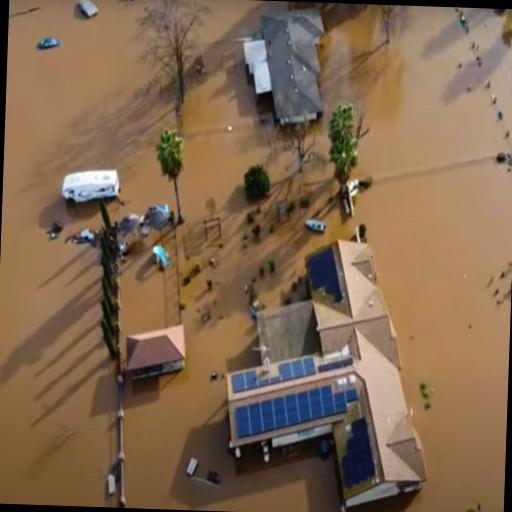flood: (255, 4, 512, 512), (124, 0, 340, 512), (0, 0, 174, 507), (120, 230, 177, 341)
house: (218, 231, 438, 512), (252, 4, 322, 128), (124, 320, 188, 384)
